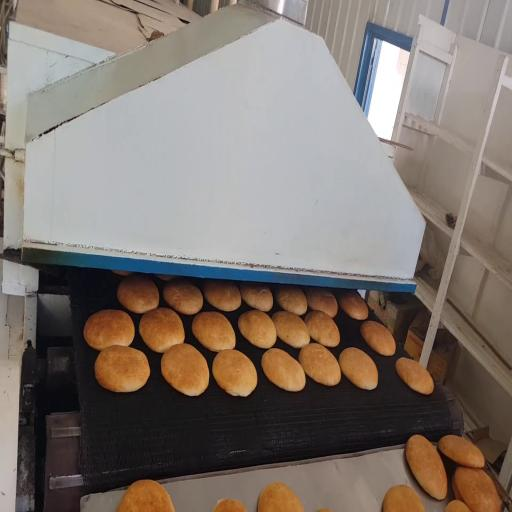bread: (406, 435, 447, 500), (95, 346, 150, 392), (161, 344, 209, 396), (212, 350, 257, 396), (139, 308, 184, 353), (454, 467, 500, 511), (84, 310, 134, 350), (262, 348, 305, 391), (117, 480, 174, 511), (299, 343, 341, 385), (192, 312, 235, 351), (339, 348, 378, 390), (117, 275, 159, 313), (439, 435, 484, 467), (238, 311, 276, 348), (272, 311, 309, 348), (396, 358, 434, 394), (258, 483, 304, 511), (163, 281, 202, 314), (305, 311, 340, 347), (204, 280, 242, 312), (361, 321, 395, 356), (382, 485, 425, 511), (306, 288, 337, 318), (240, 283, 273, 311), (276, 286, 307, 315), (339, 291, 368, 319), (214, 499, 247, 511), (445, 500, 470, 511), (452, 474, 461, 500), (155, 275, 175, 281), (112, 270, 132, 276), (318, 509, 331, 511)
